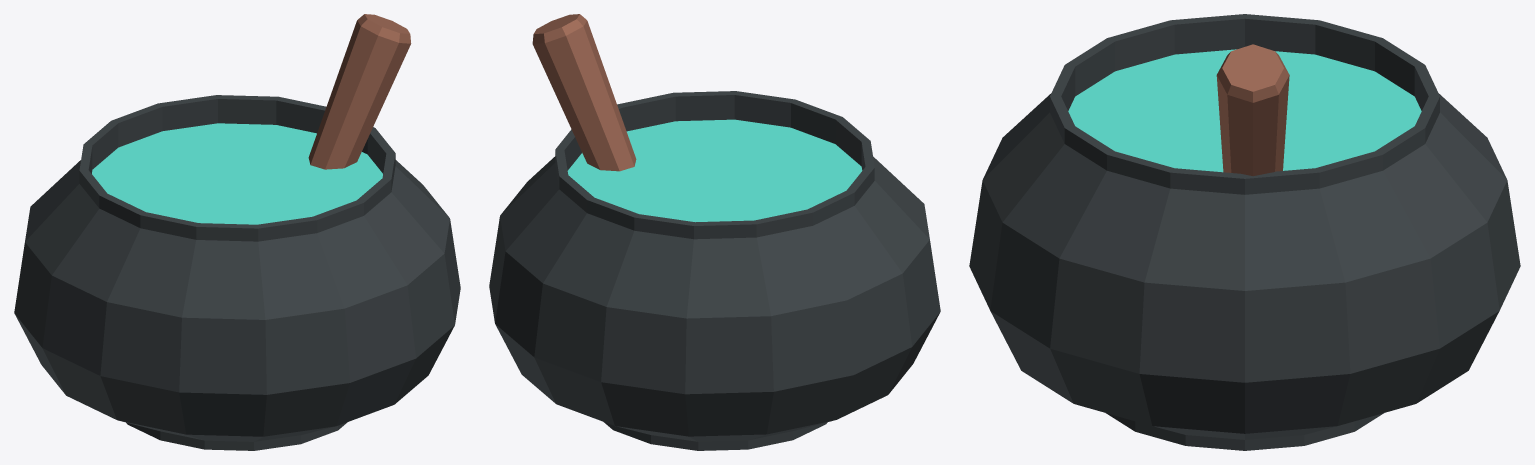
Rendered from cauldron.fbx.
The picture shows the model from 3 angles, left to right: view 1: azimuth 30°, elevation 25°; view 2: azimuth 150°, elevation 25°; view 3: azimuth 270°, elevation 25°; orthographic projection. The views are drawn at different scales.
Parts seen in each view (by area): view 1: Circle; view 2: Circle; view 3: Circle.
Part boxes in pixels (x1=…): Circle: x1=14, y1=14, x2=460, y2=450; Circle: x1=489, y1=14, x2=940, y2=450; Circle: x1=969, y1=14, x2=1520, y2=450.
Bounding box in the file's own units: 636 × 536 × 636.
